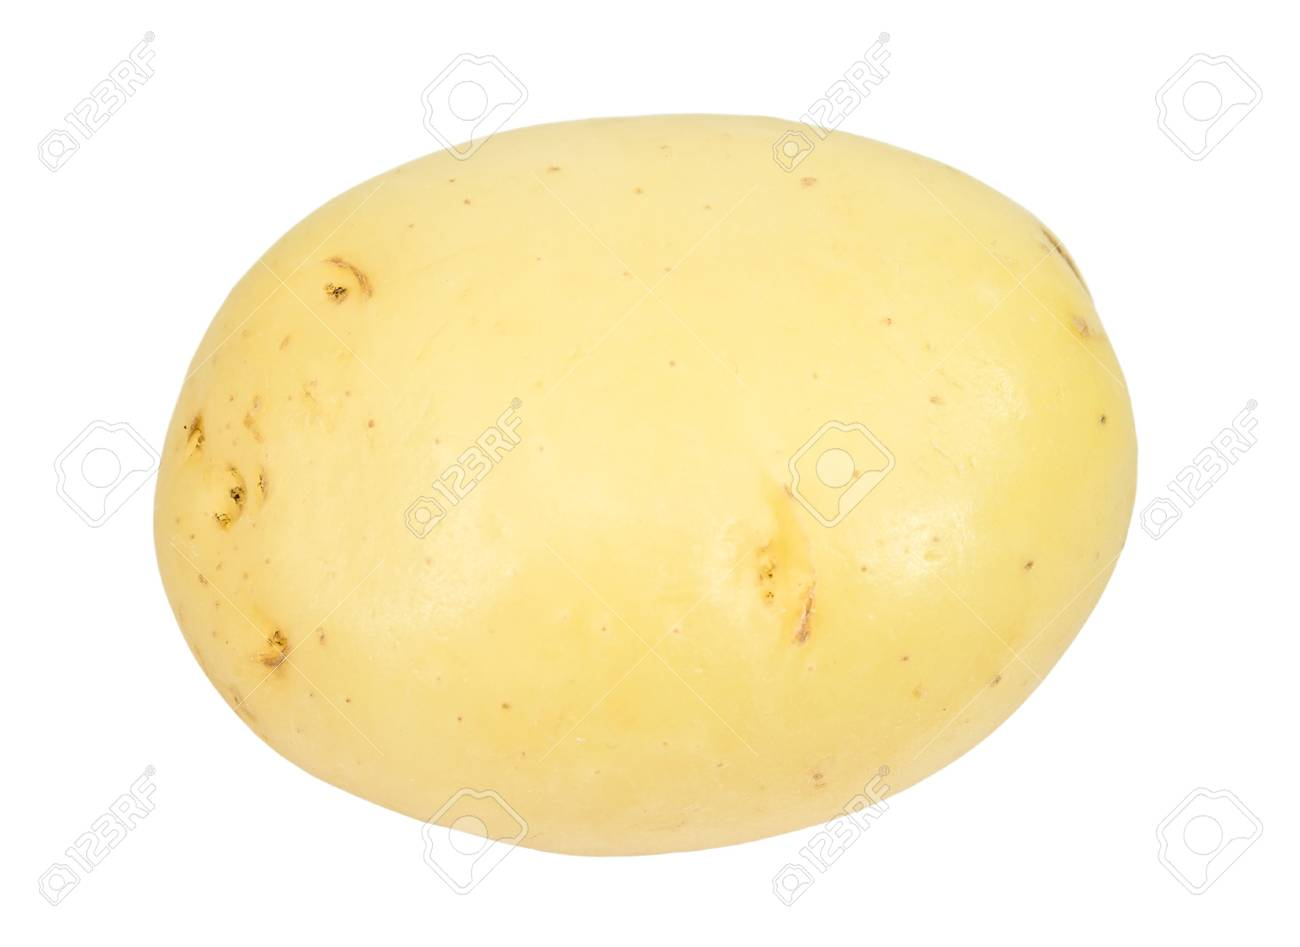potato: (147, 109, 1132, 864)
